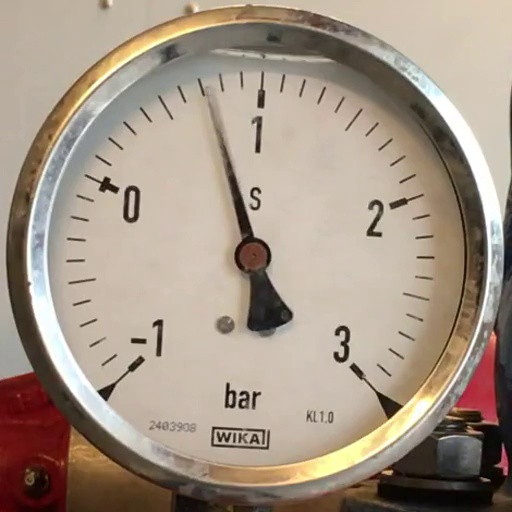base: (234, 238, 271, 274)
circle_plate: (49, 54, 465, 466)
maximum: (348, 363, 366, 380)
minimum: (128, 356, 145, 372)
number: (128, 316, 166, 360), (362, 196, 386, 240), (120, 182, 142, 226), (330, 322, 352, 364), (248, 112, 266, 156)
tip: (200, 82, 212, 100)
